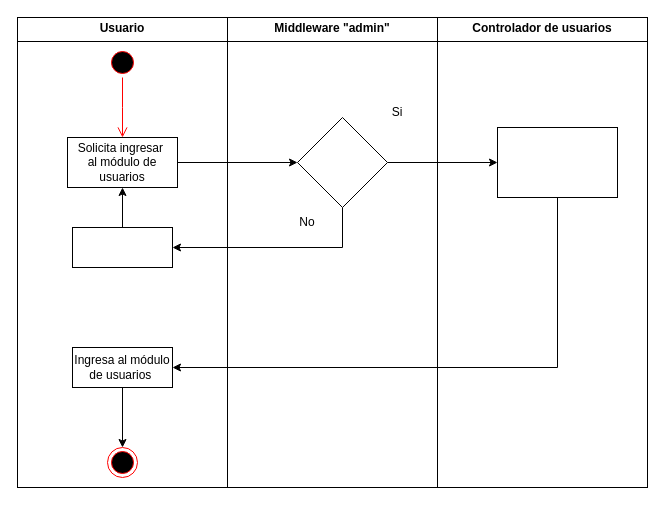
Image size: 665x505. Some labels were removed from this diagram. The shapes that lost their labels are listed below. From the top down, each one's centre as x and y in pixels, then its label:
pixel 342 162: ¿Es administrador?
pixel 557 162: Redirige a pantalla o interfaz del módulo de usuarios
pixel 122 247: Redirige a página de error 404 "no encontrado"
